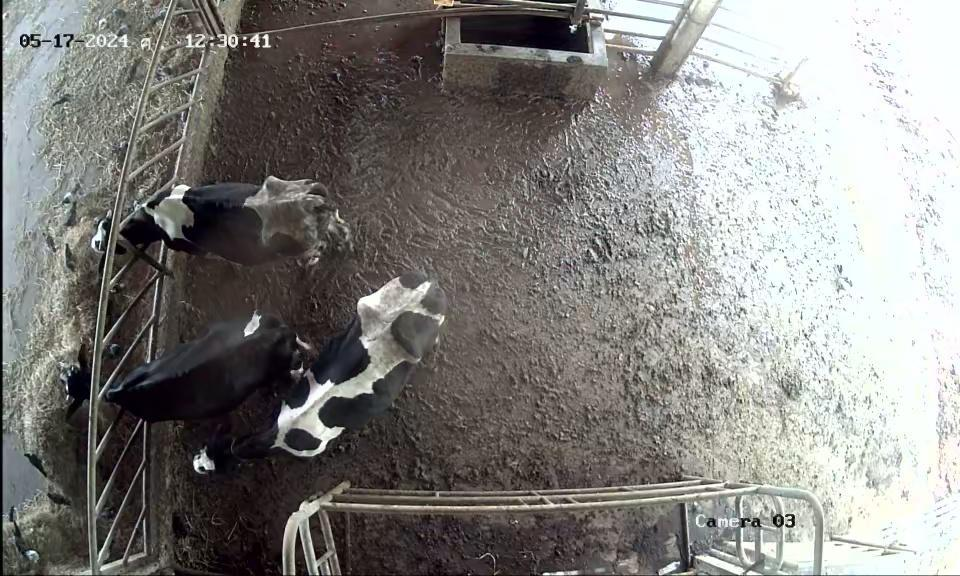eat: (37, 342, 144, 424), (73, 192, 188, 261)
stand: (185, 262, 467, 482)
